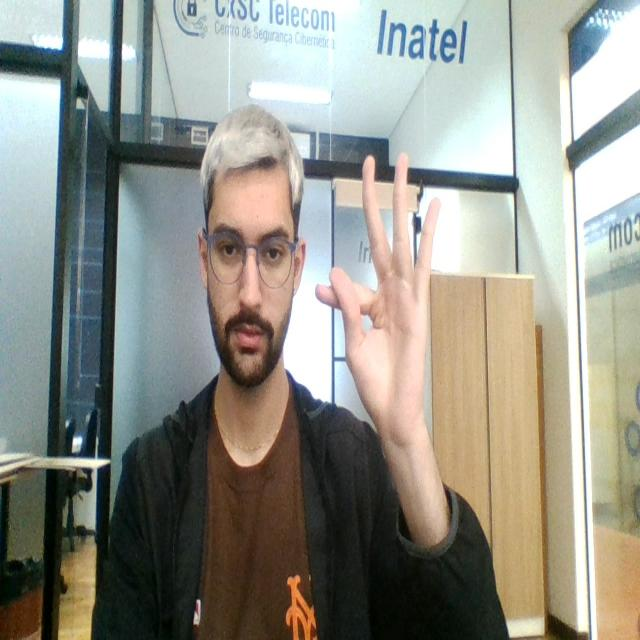T: (312, 148, 441, 446)
